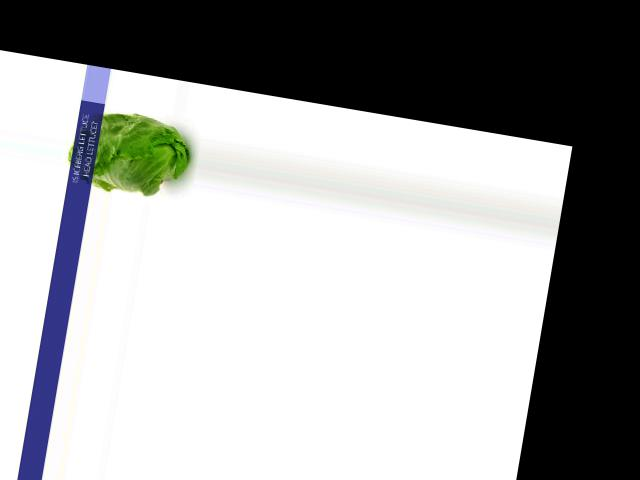lettuce: (63, 107, 199, 204)
